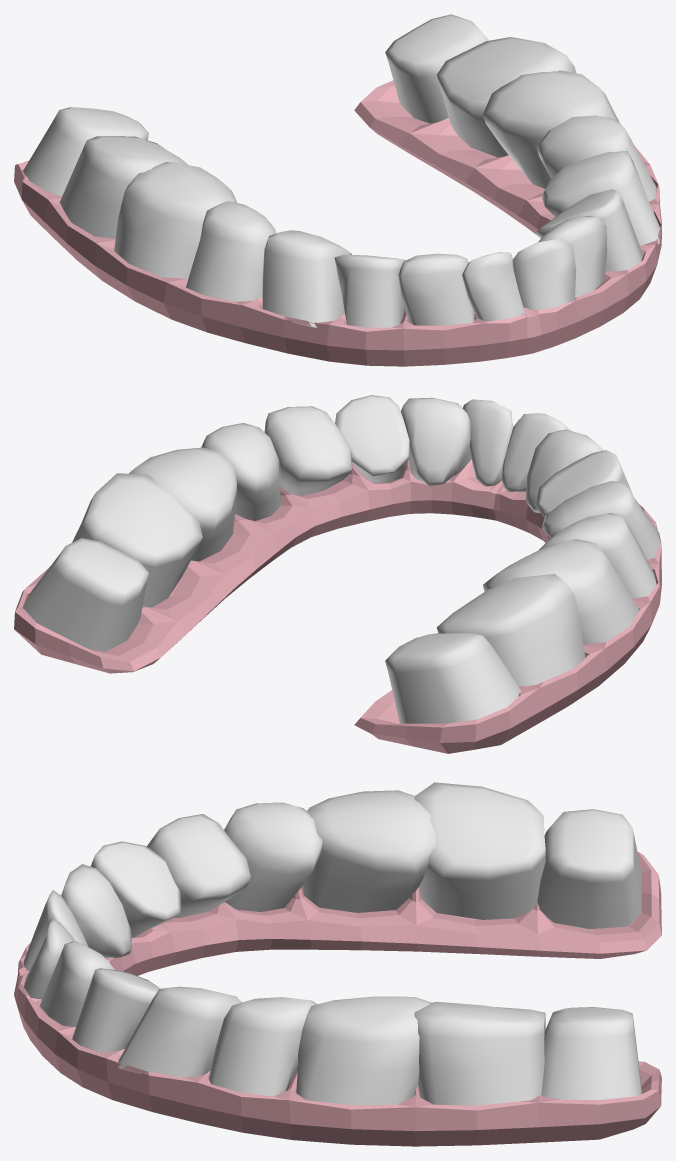
Rendered from BottomTeethSet.fbx.
3 renders of one model, top to bottom at view 1: azimuth 30°, elevation 25°; view 2: azimuth 150°, elevation 25°; view 3: azimuth 270°, elevation 25°, orthographic. The views are drawn at different scales.
Visible parts, largest first — view 1: BottomGum, BottomTeeth.014, BottomTeeth.003, BottomTeeth.002, BottomTeeth.012, BottomTeeth.015, BottomTeeth.013, BottomTeeth.001, BottomTeeth.005, BottomTeeth.016, BottomTeeth.010, BottomTeeth.011 (+5 smaller); view 2: BottomGum, BottomTeeth.015, BottomTeeth.001, BottomTeeth.016, BottomTeeth.002, BottomTeeth.014, BottomTeeth.003, BottomTeeth.005, BottomTeeth.007, BottomTeeth.006, BottomTeeth.004, BottomTeeth.013 (+5 smaller); view 3: BottomGum, BottomTeeth.015, BottomTeeth.014, BottomTeeth.003, BottomTeeth.002, BottomTeeth.016, BottomTeeth.001, BottomTeeth.004, BottomTeeth.013, BottomTeeth.005, BottomTeeth.012, BottomTeeth.011 (+5 smaller).
Part boxes in pixels (x1,y1,x2,y2): BottomGum: (14,80,661,366); BottomTeeth.014: (114,162,236,278); BottomTeeth.003: (483,70,619,188); BottomTeeth.002: (437,37,576,157); BottomTeeth.012: (262,230,351,327); BottomTeeth.015: (59,136,188,238); BottomTeeth.013: (186,201,275,301); BottomTeeth.001: (385,14,489,123); BottomTeeth.005: (541,151,660,245); BottomTeeth.016: (23,107,148,196); BottomTeeth.010: (398,253,474,325); BottomTeeth.011: (334,254,406,327); BottomGum: (14,459,661,753); BottomTeeth.015: (436,574,585,686); BottomTeeth.001: (23,538,148,651); BottomTeeth.016: (385,632,520,723); BottomTeeth.002: (72,473,202,607); BottomTeeth.014: (483,539,639,644); BottomTeeth.003: (129,447,236,561); BottomTeeth.005: (264,406,352,496); BottomTeeth.007: (400,397,471,486); BottomTeeth.006: (335,395,409,482); BottomTeeth.004: (201,423,281,521); BottomTeeth.013: (538,513,656,598); BottomGum: (14,851,661,1146); BottomTeeth.015: (414,782,545,919); BottomTeeth.014: (302,790,435,912); BottomTeeth.003: (296,996,431,1104); BottomTeeth.002: (414,1001,545,1105); BottomTeeth.016: (537,809,641,928); BottomTeeth.001: (541,1007,641,1099); BottomTeeth.004: (208,997,317,1096); BottomTeeth.013: (224,802,322,911); BottomTeeth.005: (118,986,242,1077); BottomTeeth.012: (147,814,250,918); BottomTeeth.011: (90,841,181,938).
Bounding box in the file's own units: 311 × 63.82 × 312.
